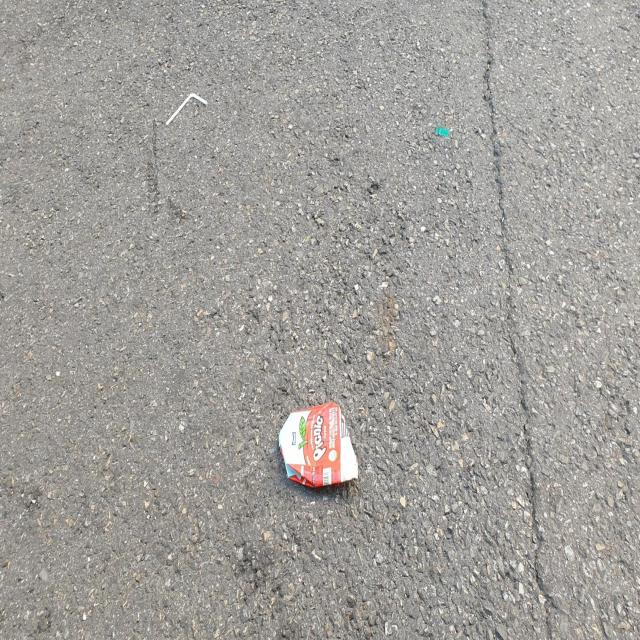paperpack: (279, 402, 358, 486)
